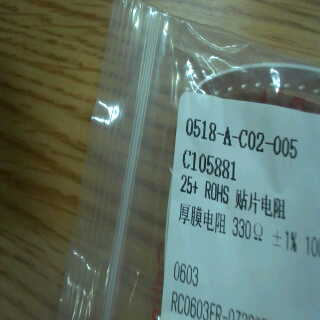330R: (230, 211, 264, 244)
